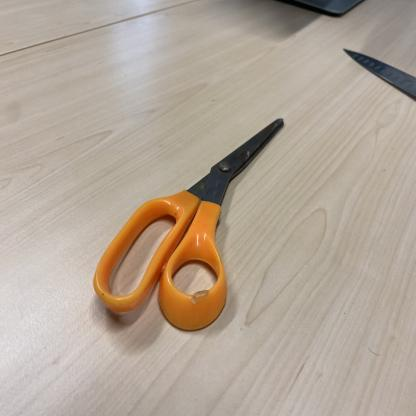Knife: (342, 50, 416, 102)
scissors: (94, 118, 284, 334)
